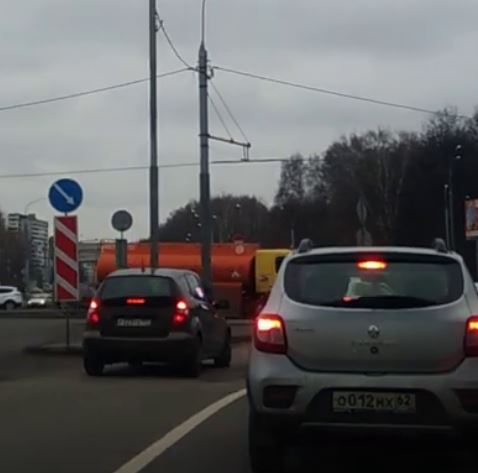Sagdan Git: (49, 178, 87, 215)
